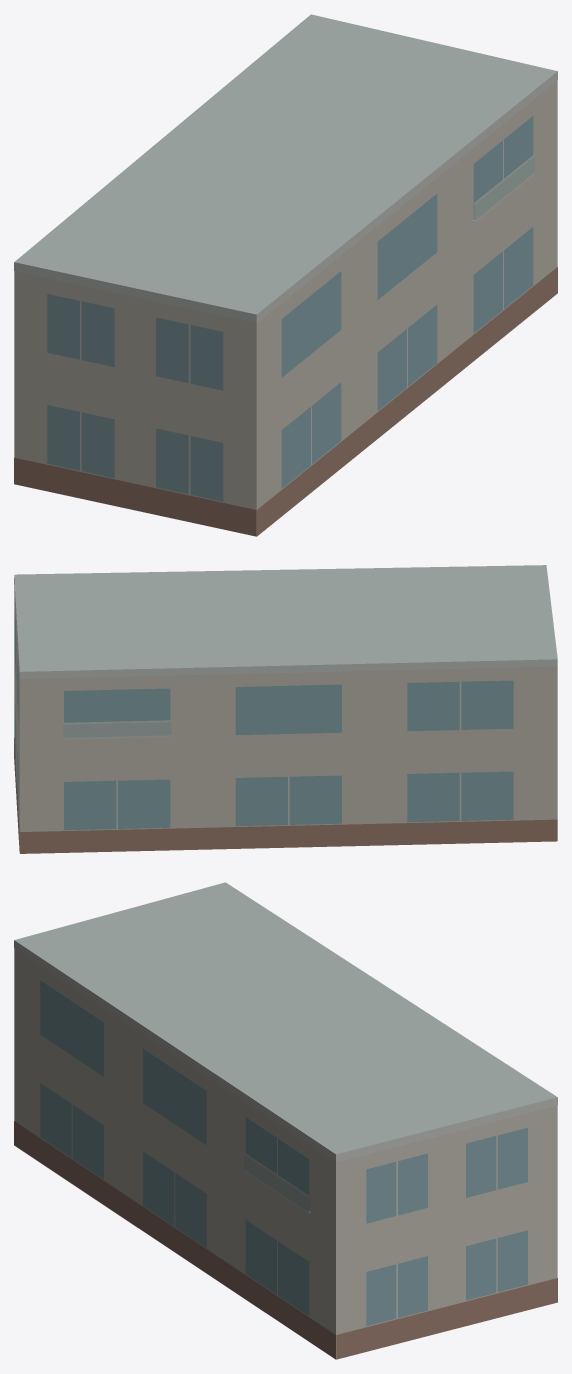
File: survey-upis-32720223.glb
3 renders of one model, top to bottom at view 1: azimuth 30°, elevation 25°; view 2: azimuth 150°, elevation 25°; view 3: azimuth 270°, elevation 25°, orthographic. The views are drawn at different scales.
Parts seen in each view (by area): view 1: survey-upis-32720223.tmp; view 2: survey-upis-32720223.tmp; view 3: survey-upis-32720223.tmp.
Part boxes in pixels (x1=…): survey-upis-32720223.tmp: x1=14, y1=14, x2=557, y2=536; survey-upis-32720223.tmp: x1=14, y1=565, x2=557, y2=853; survey-upis-32720223.tmp: x1=14, y1=882, x2=557, y2=1359.
Size of the model in its own units: 17.36 by 6.1 by 14.66.
